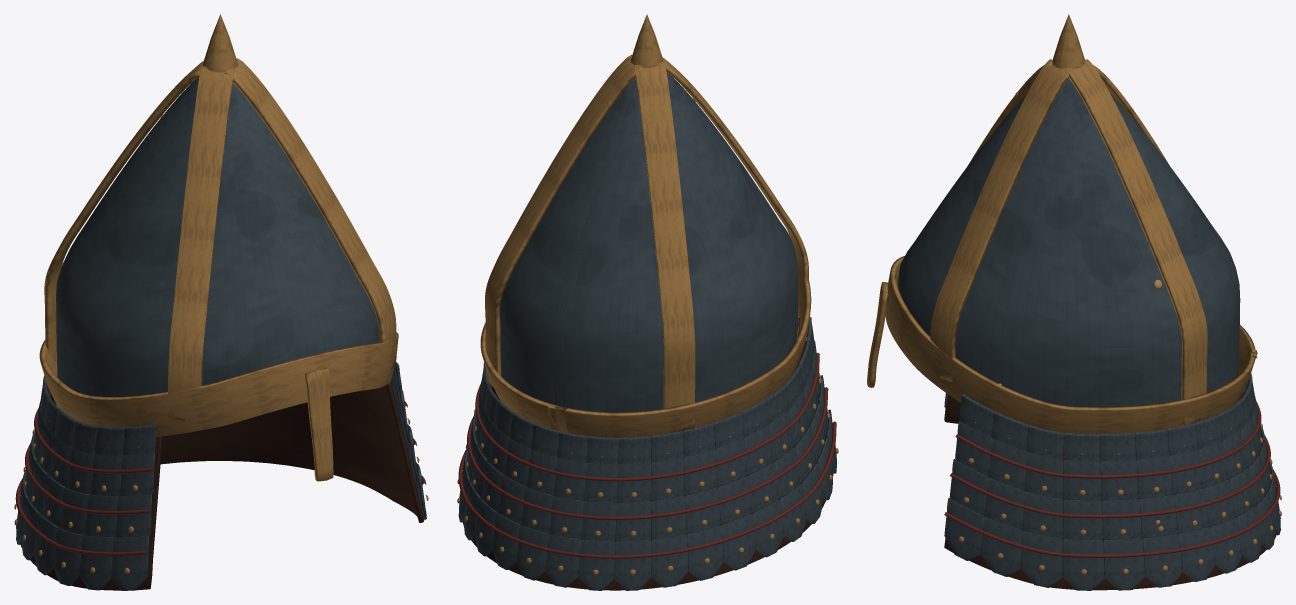
3 renders of one model, left to right at view 1: azimuth 30°, elevation 25°; view 2: azimuth 150°, elevation 25°; view 3: azimuth 270°, elevation 25°, orthographic. The views are drawn at different scales.
Visible parts, largest first — view 1: blackened lamellar plate, aged alloy edge, oiled strap leather, woven wool; view 2: blackened lamellar plate, aged alloy edge, woven wool, oiled strap leather; view 3: blackened lamellar plate, aged alloy edge, woven wool, oiled strap leather.
Part boxes in pixels (box(x1,y1,x2,y2)): blackened lamellar plate: box(16, 78, 426, 590); aged alloy edge: box(14, 14, 428, 573); oiled strap leather: box(20, 381, 424, 590); woven wool: box(15, 365, 426, 555); blackened lamellar plate: box(458, 73, 836, 590); aged alloy edge: box(457, 14, 838, 575); woven wool: box(458, 326, 836, 558); oiled strap leather: box(462, 318, 833, 590); blackened lamellar plate: box(898, 79, 1280, 590); aged alloy edge: box(867, 14, 1281, 574); woven wool: box(944, 380, 1280, 557); oiled strap leather: box(944, 391, 1276, 590).
Bounding box in the file's own units: 0.2628 × 0.3896 × 0.2861.
6 materials, 5 textured.
